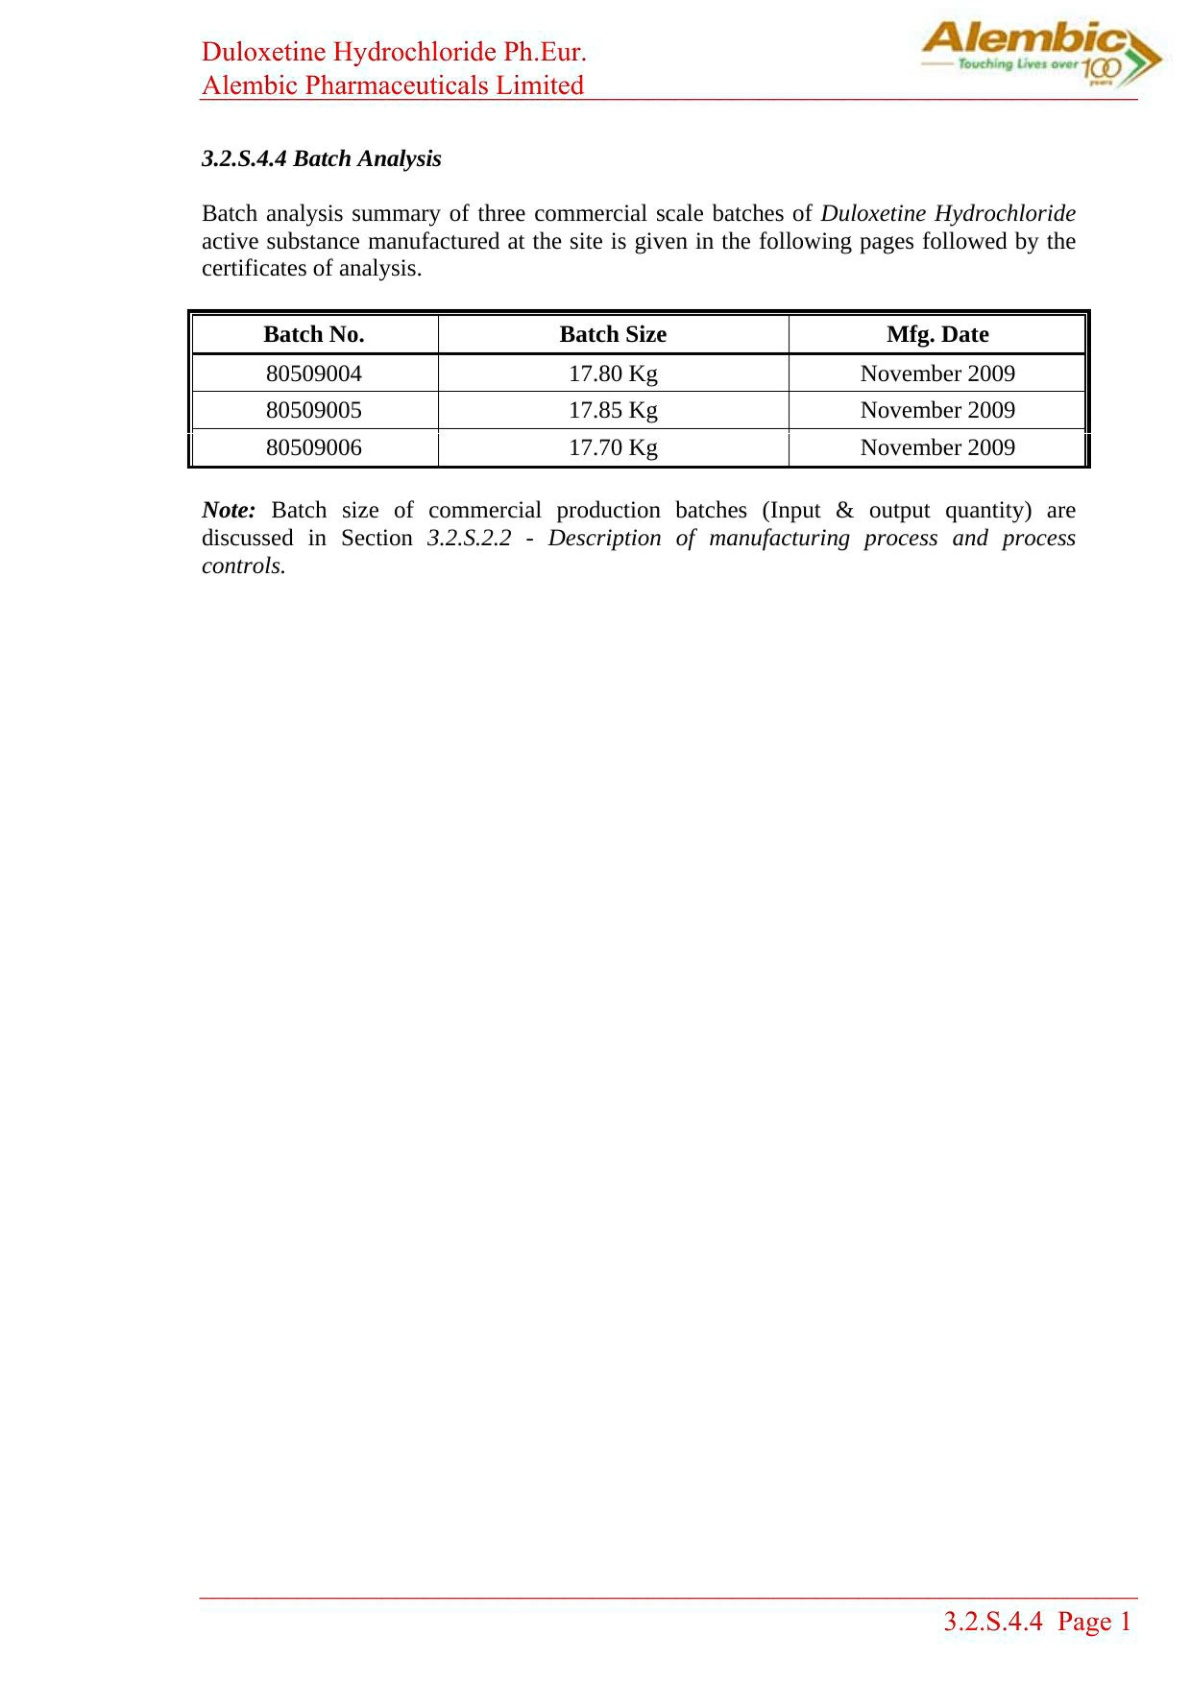full_lined: (187, 309, 1090, 469)
